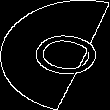O_E: (9, 26, 101, 84)
